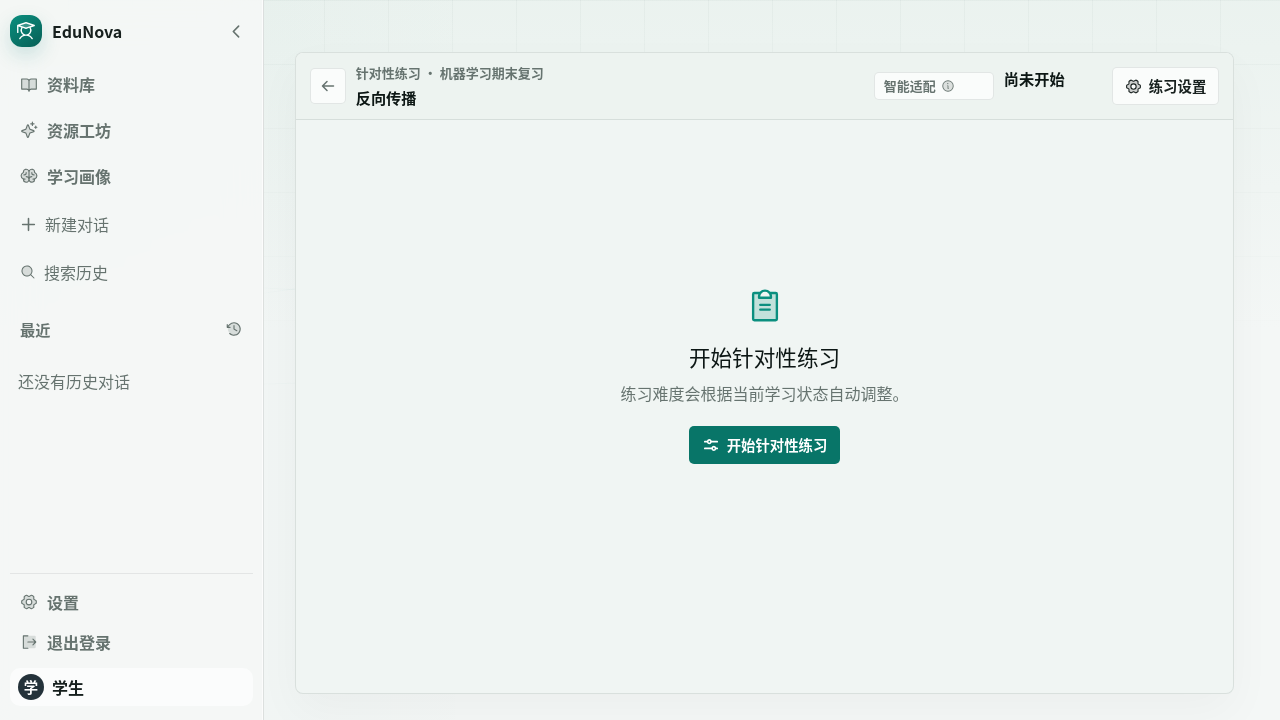
Scenario: student interaction affordances › creates a real practice session and acknowledges submitted answers
The width and height of the screenshot is (1280, 720).
Expected: the heading "开始针对性练习" is shown, [689, 341, 840, 374]
Expected: the text "反向传播" is shown, [356, 86, 416, 108]
Click the button "开始针对性练习".
click(764, 445)  # box [689, 426, 840, 464]
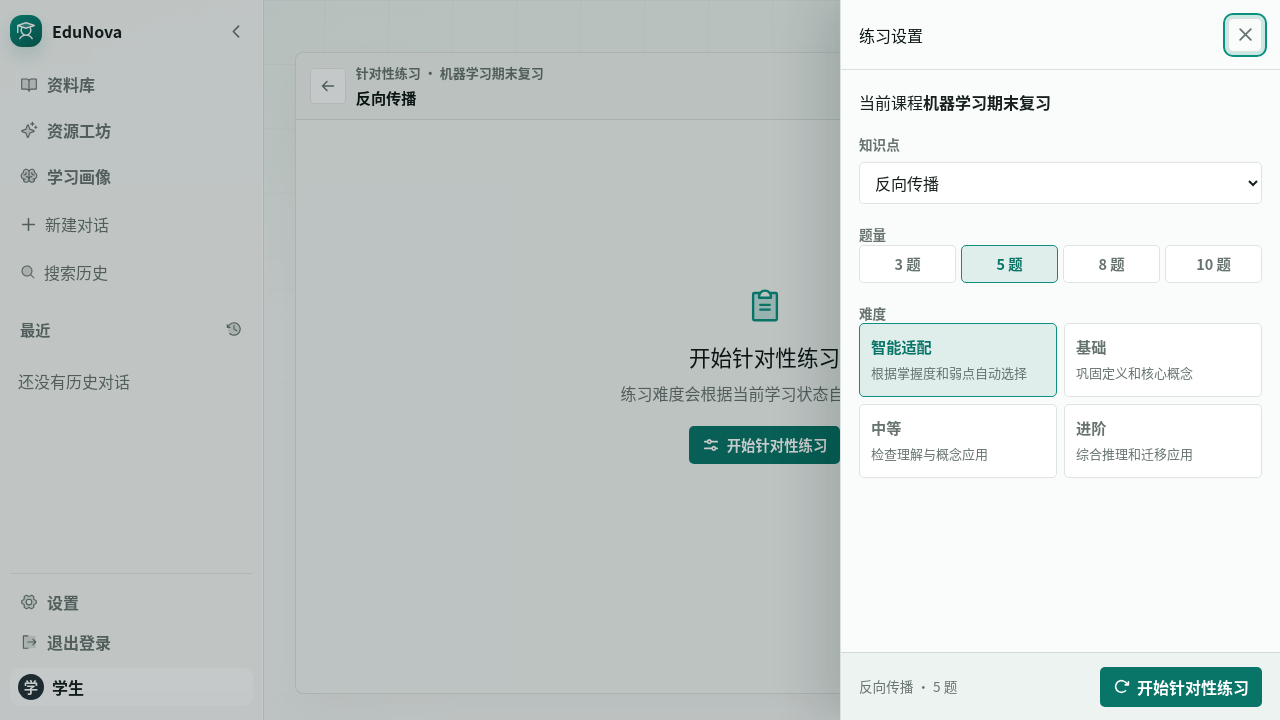
Click the button "开始针对性练习".
click(1181, 686)  # box [1100, 666, 1262, 706]
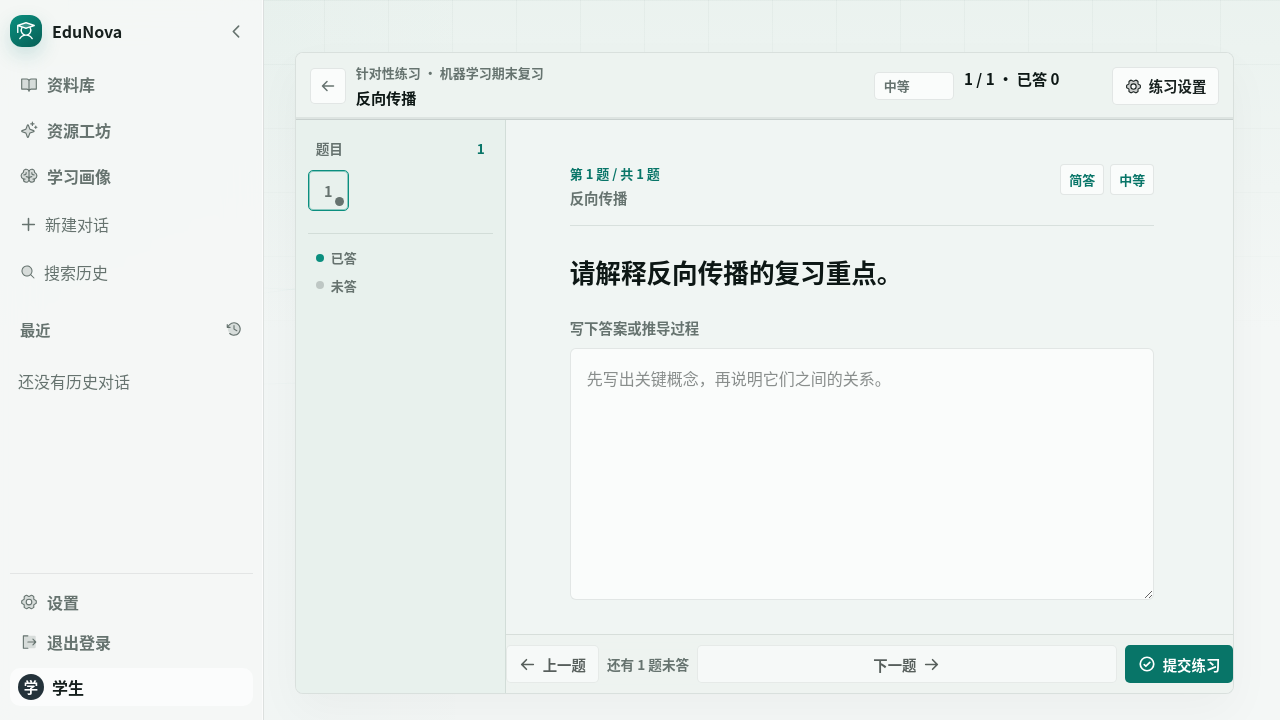
Type "需要把局部梯度沿计算图传回参数。" into the text box named "q1 作答区".
click(862, 474); type("需要把局部梯度沿计算图传回参数。")  # box [570, 348, 1154, 600]
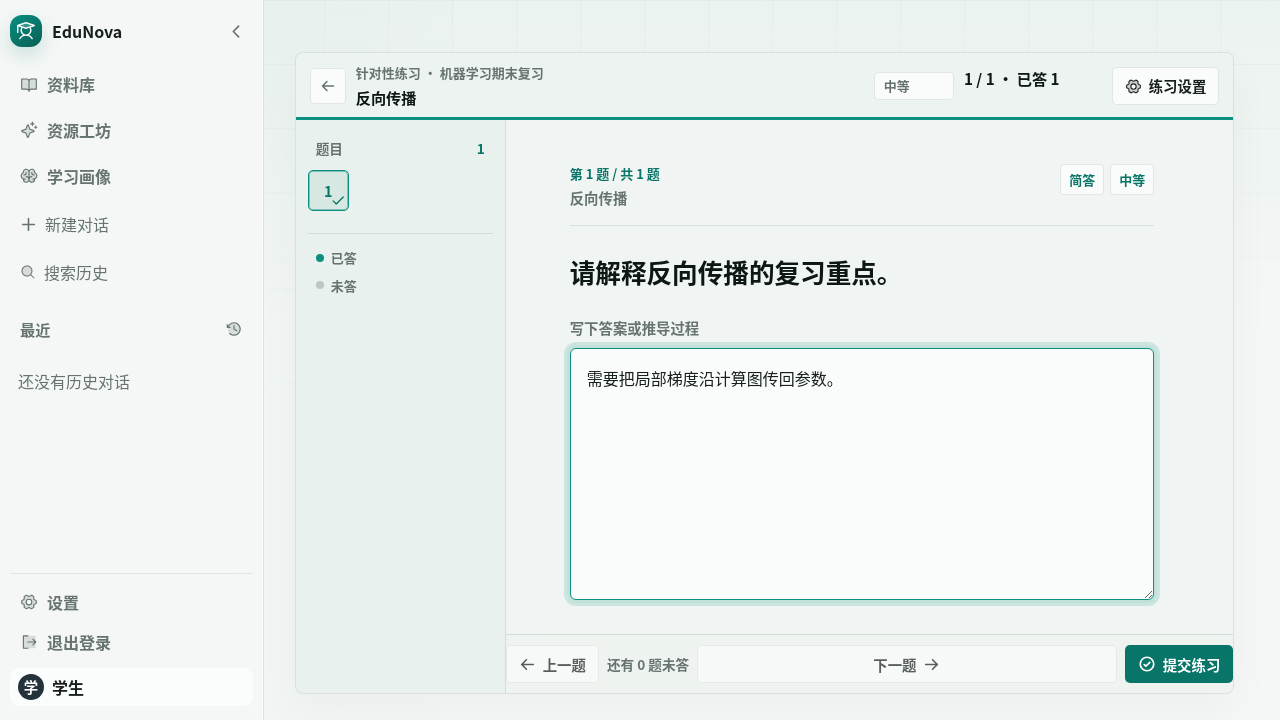
Click the button "提交练习".
click(1179, 664)  # box [1125, 645, 1233, 683]
(page scrolled)
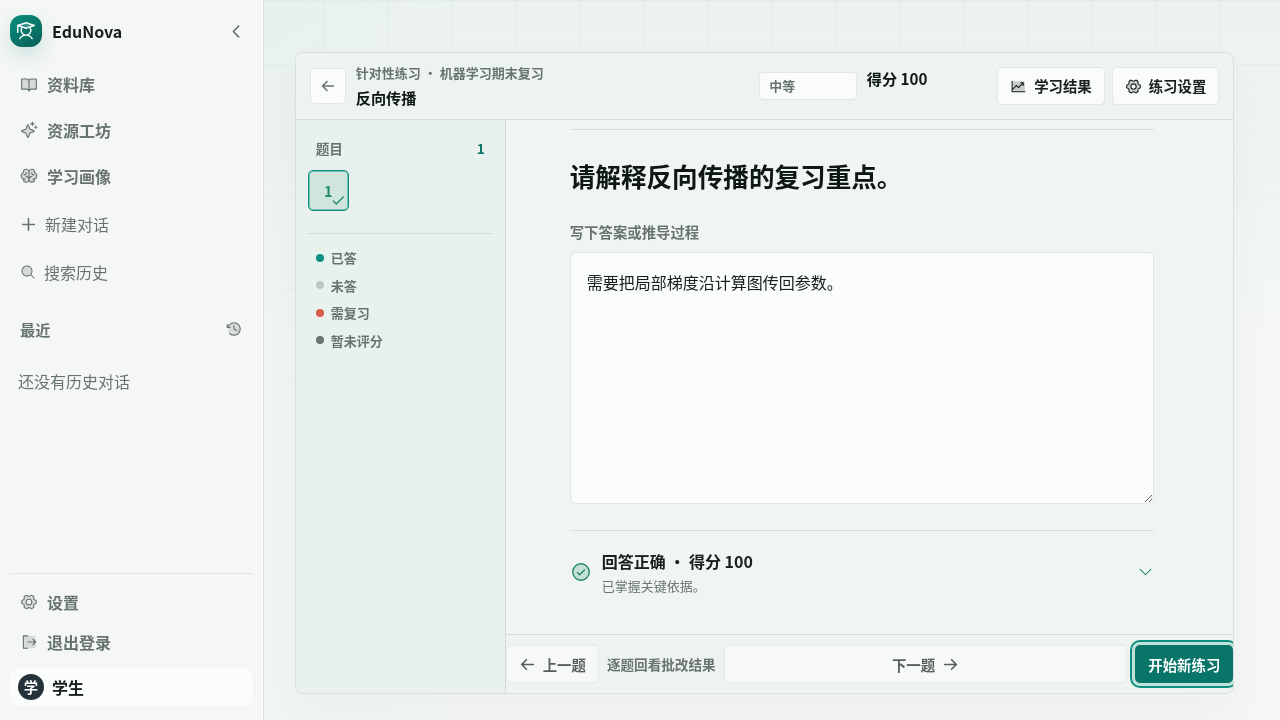
Now the button "回答正确 · 得分 100 已掌握关键依据。" is shown, box [570, 549, 1154, 595]
